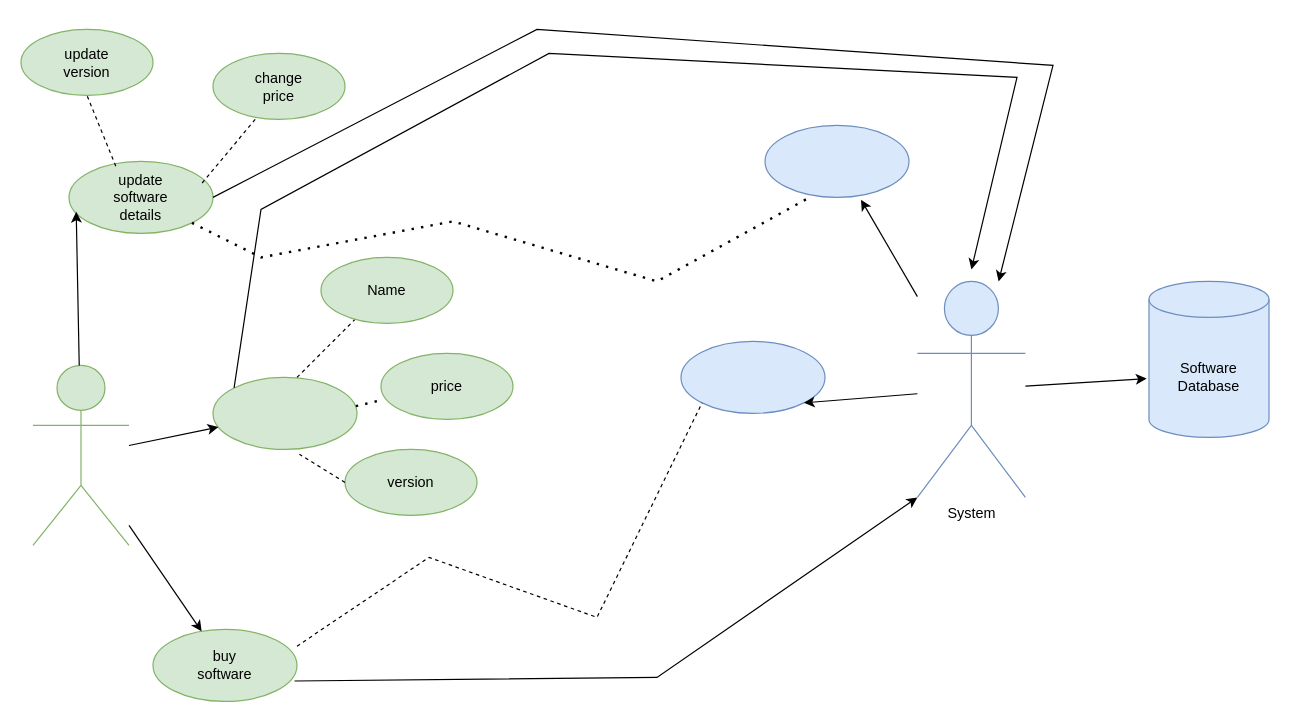
The diagram is 1290 pixels wide and 722 high, and some of its shapes have lost their labels. The centre of each missing label's shape, as x and y in pixels:
get actual price: the point at 752,376
update software database: the point at 836,160
User: the point at 80,454
View software: the point at 284,412
